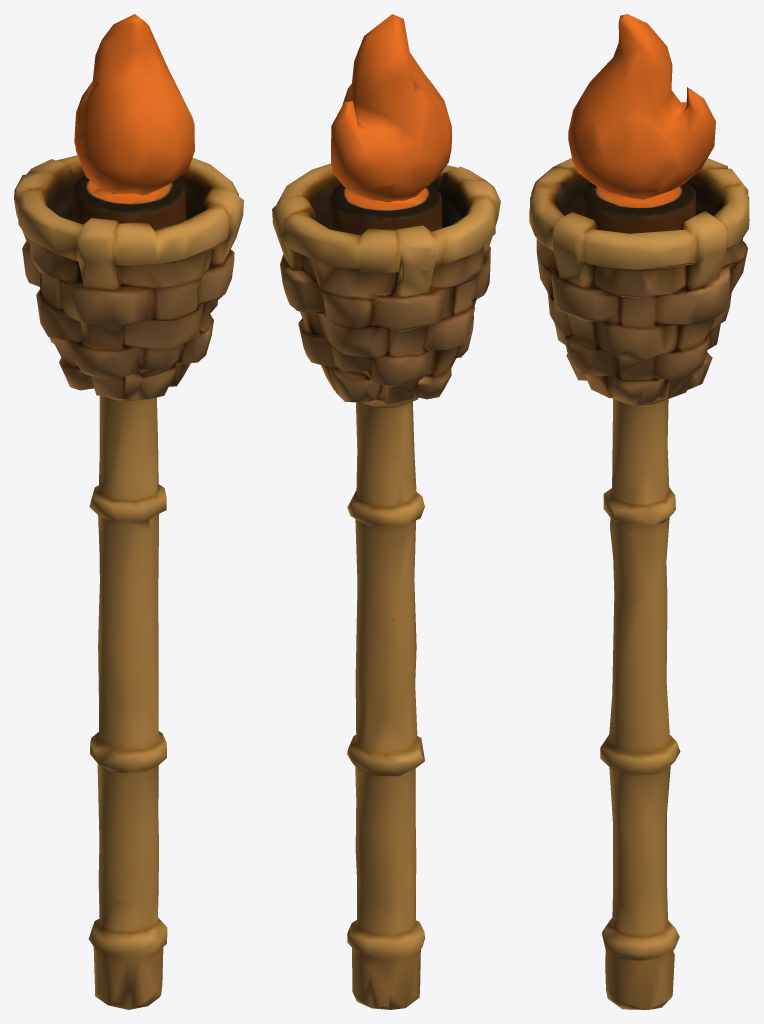
Rendered from f-tiki.glb.
The picture shows the model from 3 angles, left to right: view 1: azimuth 30°, elevation 25°; view 2: azimuth 150°, elevation 25°; view 3: azimuth 270°, elevation 25°; orthographic projection.
Parts seen in each view (by area): view 1: tripo_node_5ee646ac-e4da-457e-9317-941bdb00e524; view 2: tripo_node_5ee646ac-e4da-457e-9317-941bdb00e524; view 3: tripo_node_5ee646ac-e4da-457e-9317-941bdb00e524.
Boxes of the visible parts, box(x1,y1,x2,y2) form: tripo_node_5ee646ac-e4da-457e-9317-941bdb00e524: box(14, 14, 243, 1009); tripo_node_5ee646ac-e4da-457e-9317-941bdb00e524: box(272, 14, 500, 1009); tripo_node_5ee646ac-e4da-457e-9317-941bdb00e524: box(529, 14, 749, 1009).
Bounding box in the file's own units: 0.2041 × 1 × 0.2024.
1 material, 1 textured.
